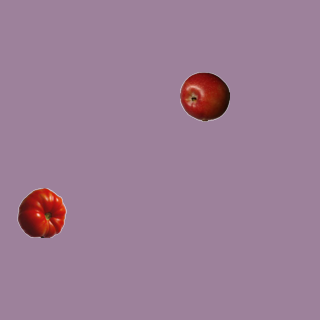Apple Braeburn: (179, 71, 229, 121)
Tomato 3: (16, 187, 66, 237)
